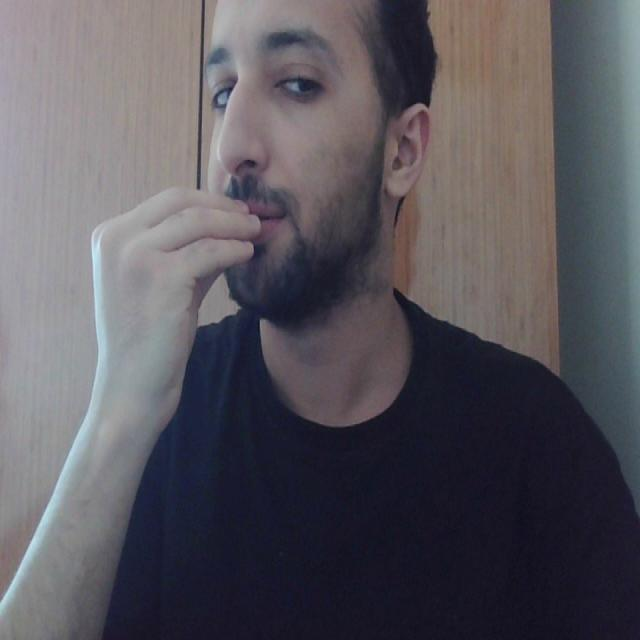Yemek: (79, 179, 289, 290)
